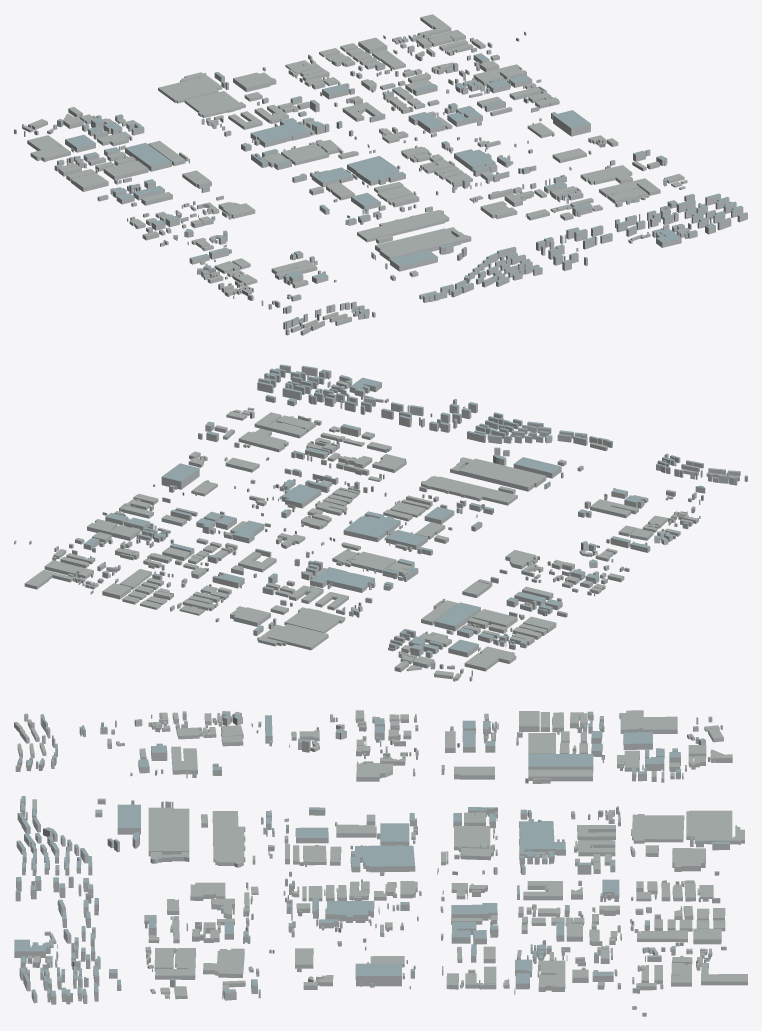
File: far.glb
3 views of the same model, one above another, from view 1: azimuth 30°, elevation 25°; view 2: azimuth 150°, elevation 25°; view 3: azimuth 270°, elevation 25° (orthographic). The views are drawn at different scales.
Size of the model in its own units: 2117 by 35.5 by 2176.
